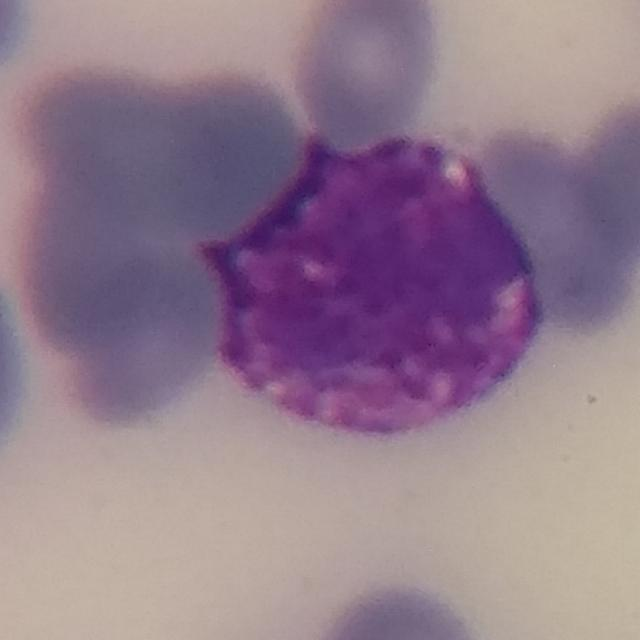baso: (194, 112, 555, 449)
